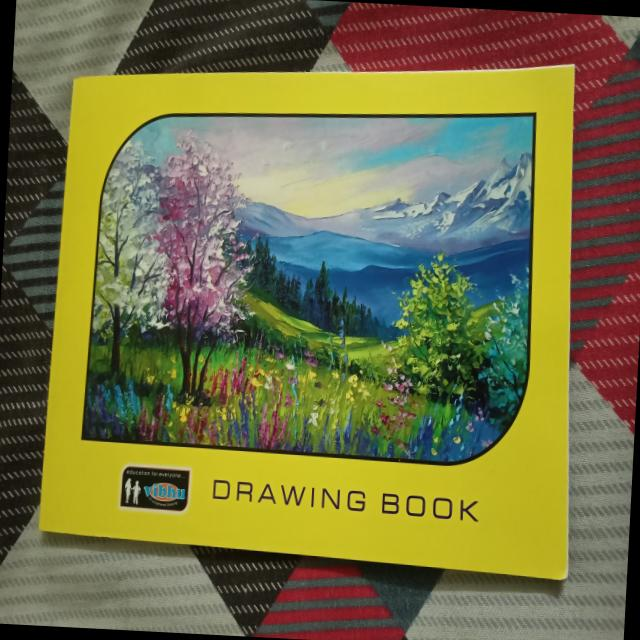notebook: (13, 18, 629, 611)
